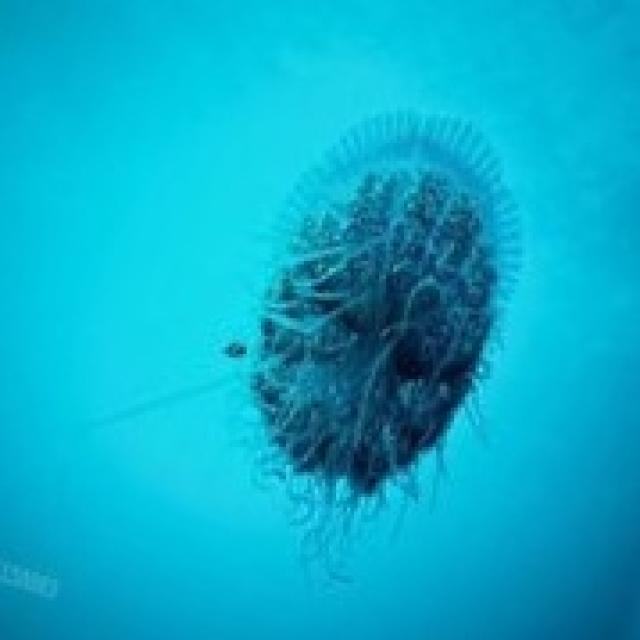Moon-jellyfish: (144, 75, 550, 577)
